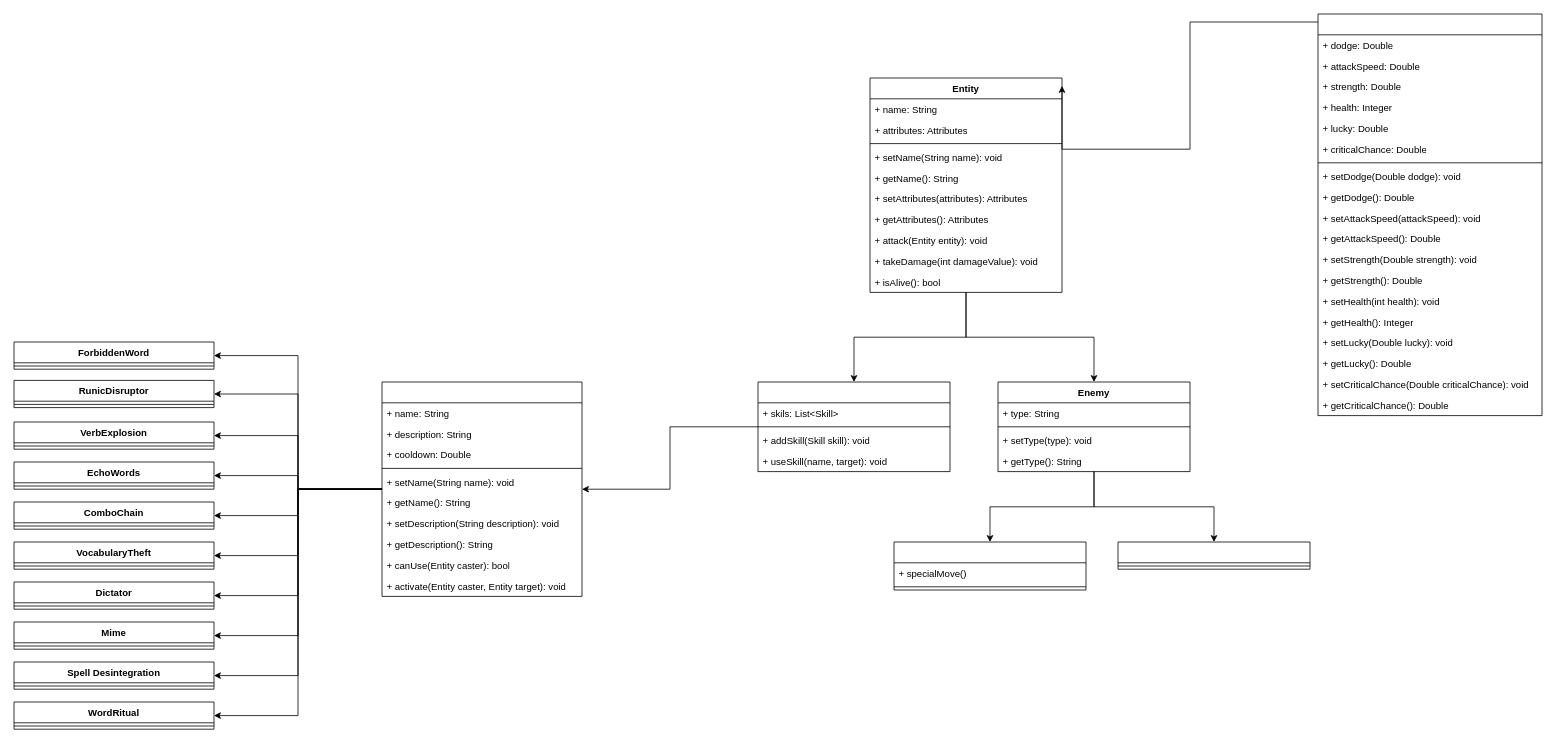
The diagram is 1556 pixels wide and 743 high, and some of its shapes have lost their labels. Each missing label, with the box of its shape:
<<abstract>> Skill: (381, 381, 582, 596)
Attributes: (1317, 13, 1542, 416)
BasicEnemy: (1117, 541, 1310, 569)
BossEnemy: (893, 541, 1086, 590)
Player: (757, 381, 950, 472)
